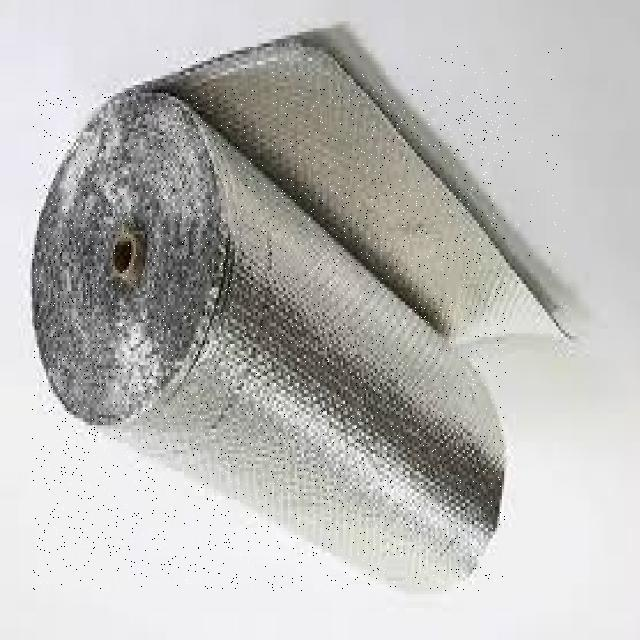metal: (33, 89, 506, 591), (154, 42, 568, 340)
